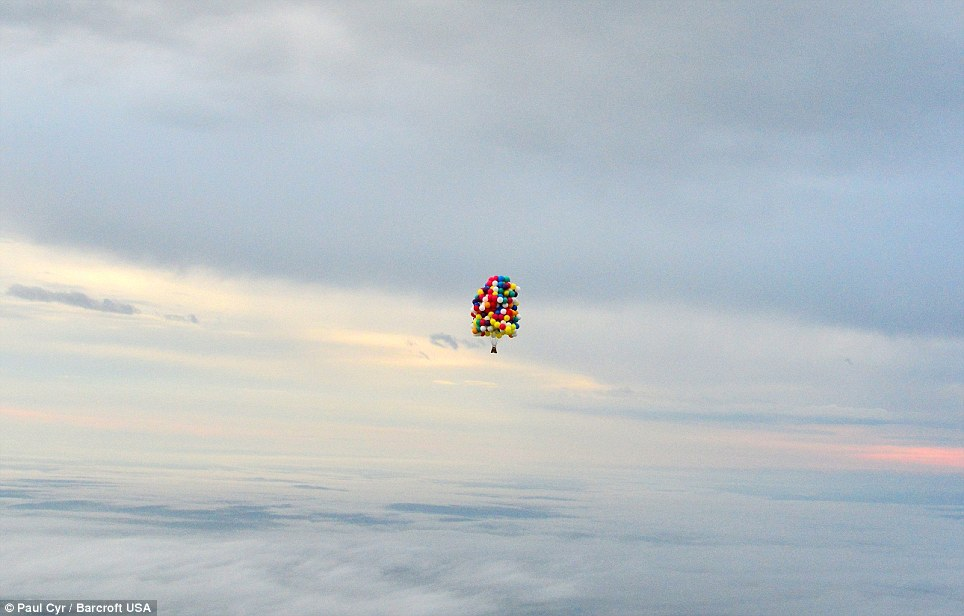Balloon: (479, 304, 486, 312), (497, 296, 503, 304), (504, 314, 510, 321), (480, 325, 486, 332), (477, 288, 483, 295), (492, 280, 498, 287), (472, 327, 478, 334), (494, 321, 500, 328), (500, 308, 506, 315), (500, 324, 506, 330), (510, 283, 516, 289), (516, 314, 522, 320), (492, 313, 498, 319), (487, 325, 493, 331), (482, 296, 488, 302), (511, 323, 516, 330), (480, 319, 485, 325), (504, 290, 509, 296), (504, 276, 510, 281), (503, 297, 508, 303)
